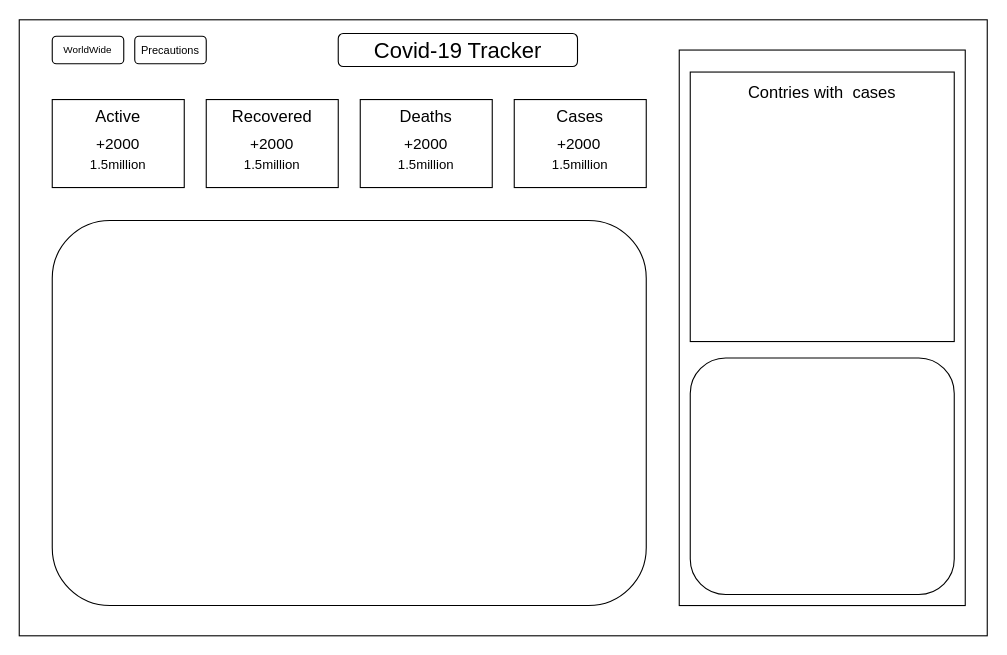
Image size: 1007x655. Some labels were removed from this diagram. The shapes that lost their labels are listed below. From the top down, each one's box as (x1, y1, x2, y2) in pixels, then its label:
(51, 219, 646, 606): MAP
(689, 357, 954, 595): Graph
